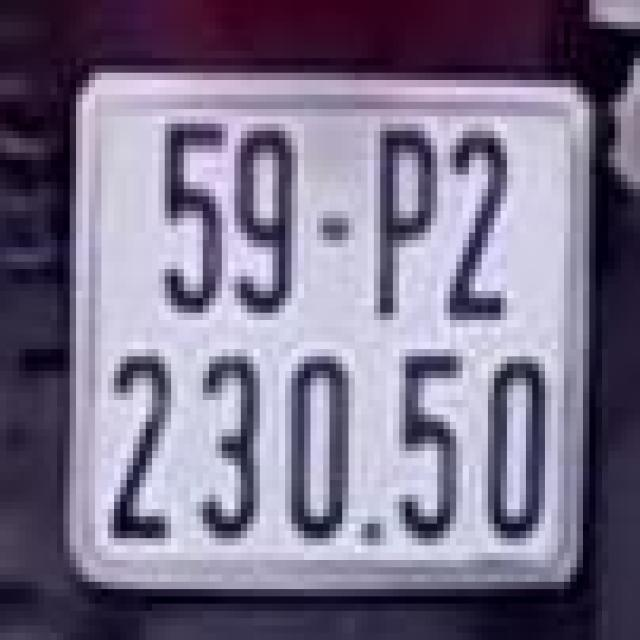0: (282, 338, 358, 549), (478, 342, 554, 545)
2: (441, 109, 516, 327), (98, 342, 174, 553)
3: (193, 346, 263, 549)
5: (149, 112, 231, 324), (393, 342, 469, 553)
9: (231, 116, 301, 328)
P: (358, 109, 440, 335)
